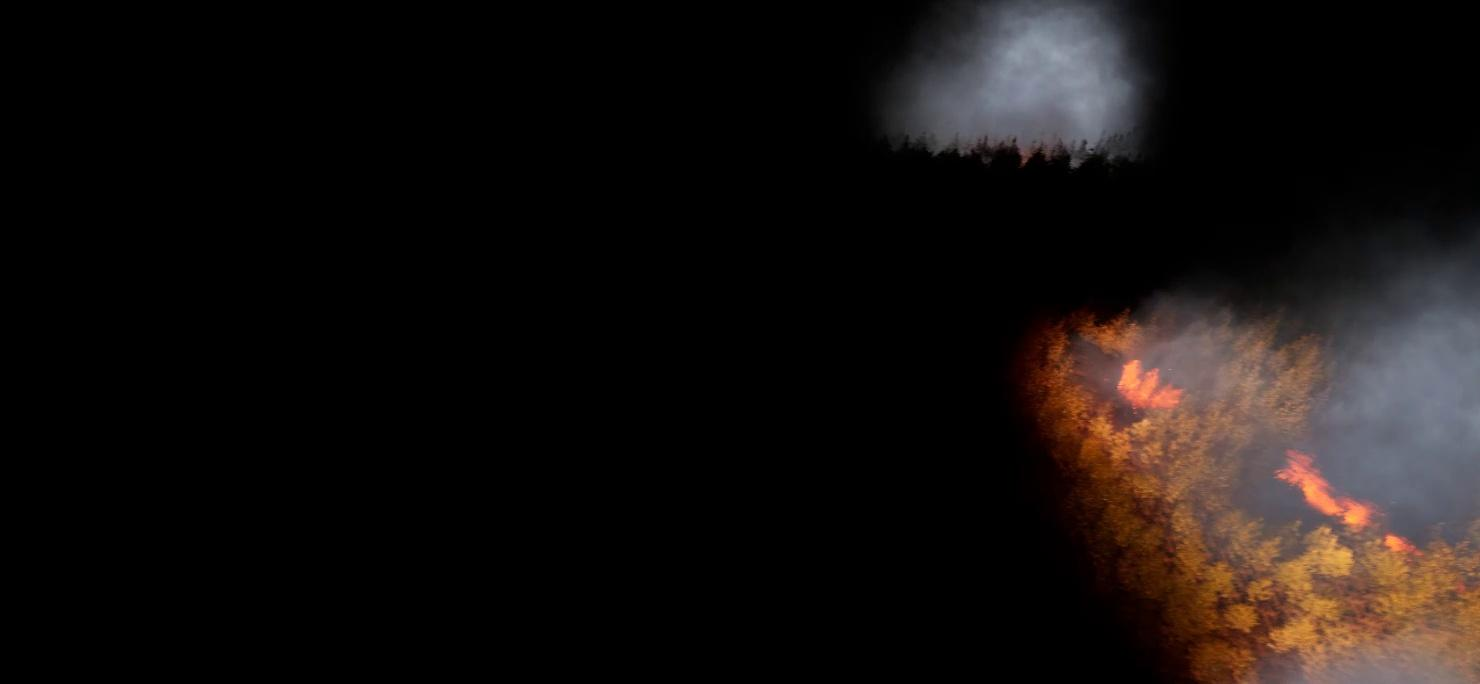fire: (1019, 310, 1479, 683)
smoke: (1086, 244, 1479, 683), (875, 0, 1180, 168)
